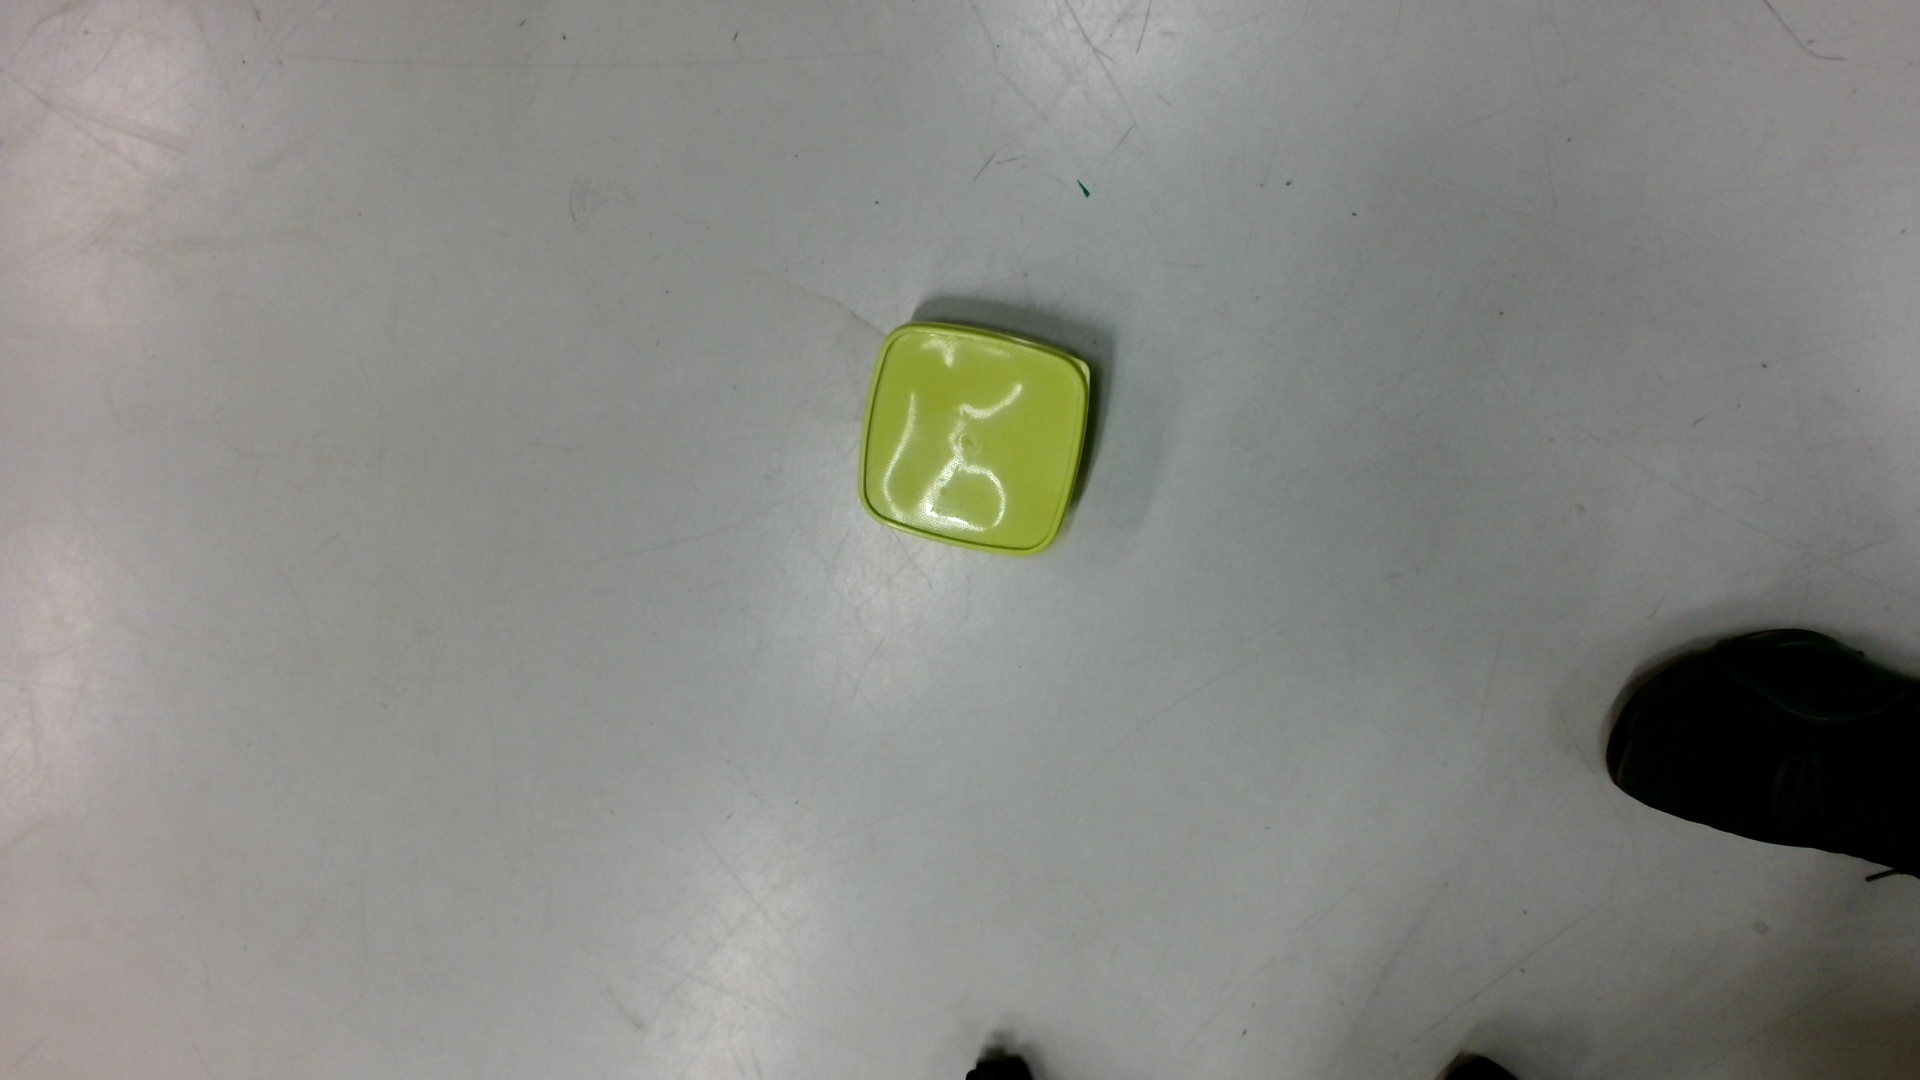Box: (855, 315, 1102, 562)
